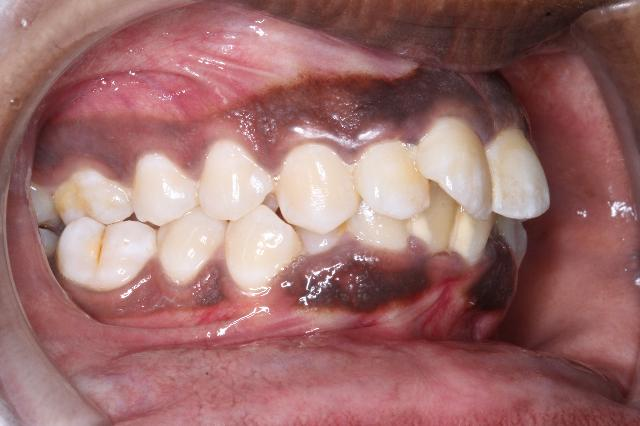canine class II 1/2: (226, 141, 368, 300)
molar class I: (45, 158, 159, 298)
